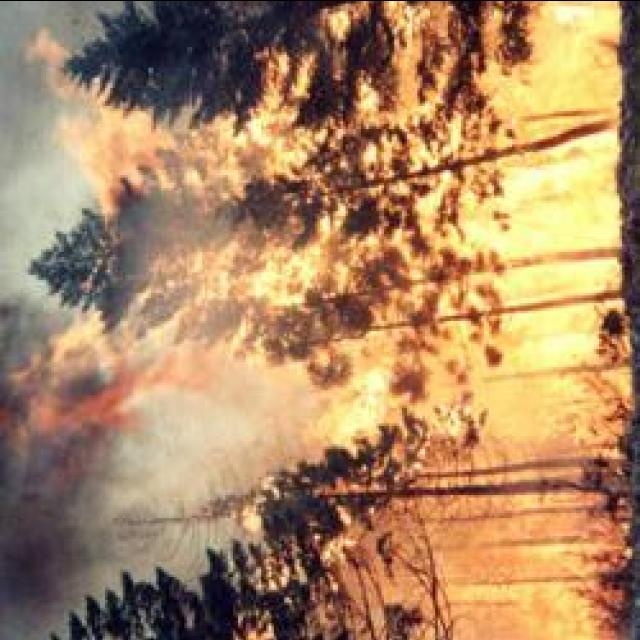fire: (508, 161, 612, 258), (530, 0, 617, 69)
smoke: (3, 329, 107, 618), (80, 368, 268, 491)
